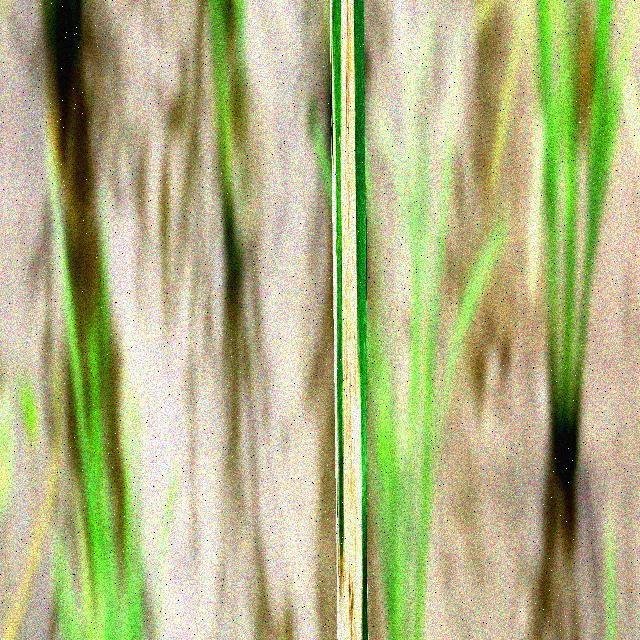BLB: (331, 0, 363, 640)
